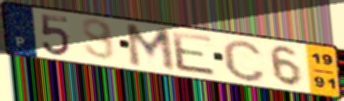5: (39, 13, 71, 57)
6: (269, 44, 305, 88)
9: (81, 17, 117, 64)
C: (220, 38, 268, 83)
E: (169, 29, 219, 78)
M: (123, 23, 178, 74)
